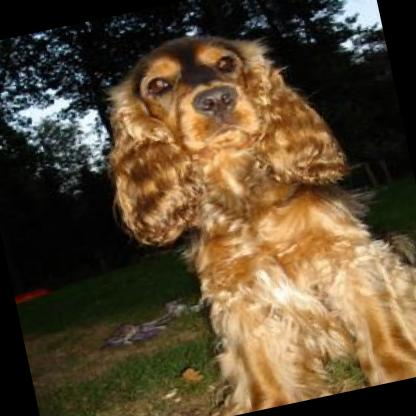Sussex_spaniel: (75, 0, 416, 416)
